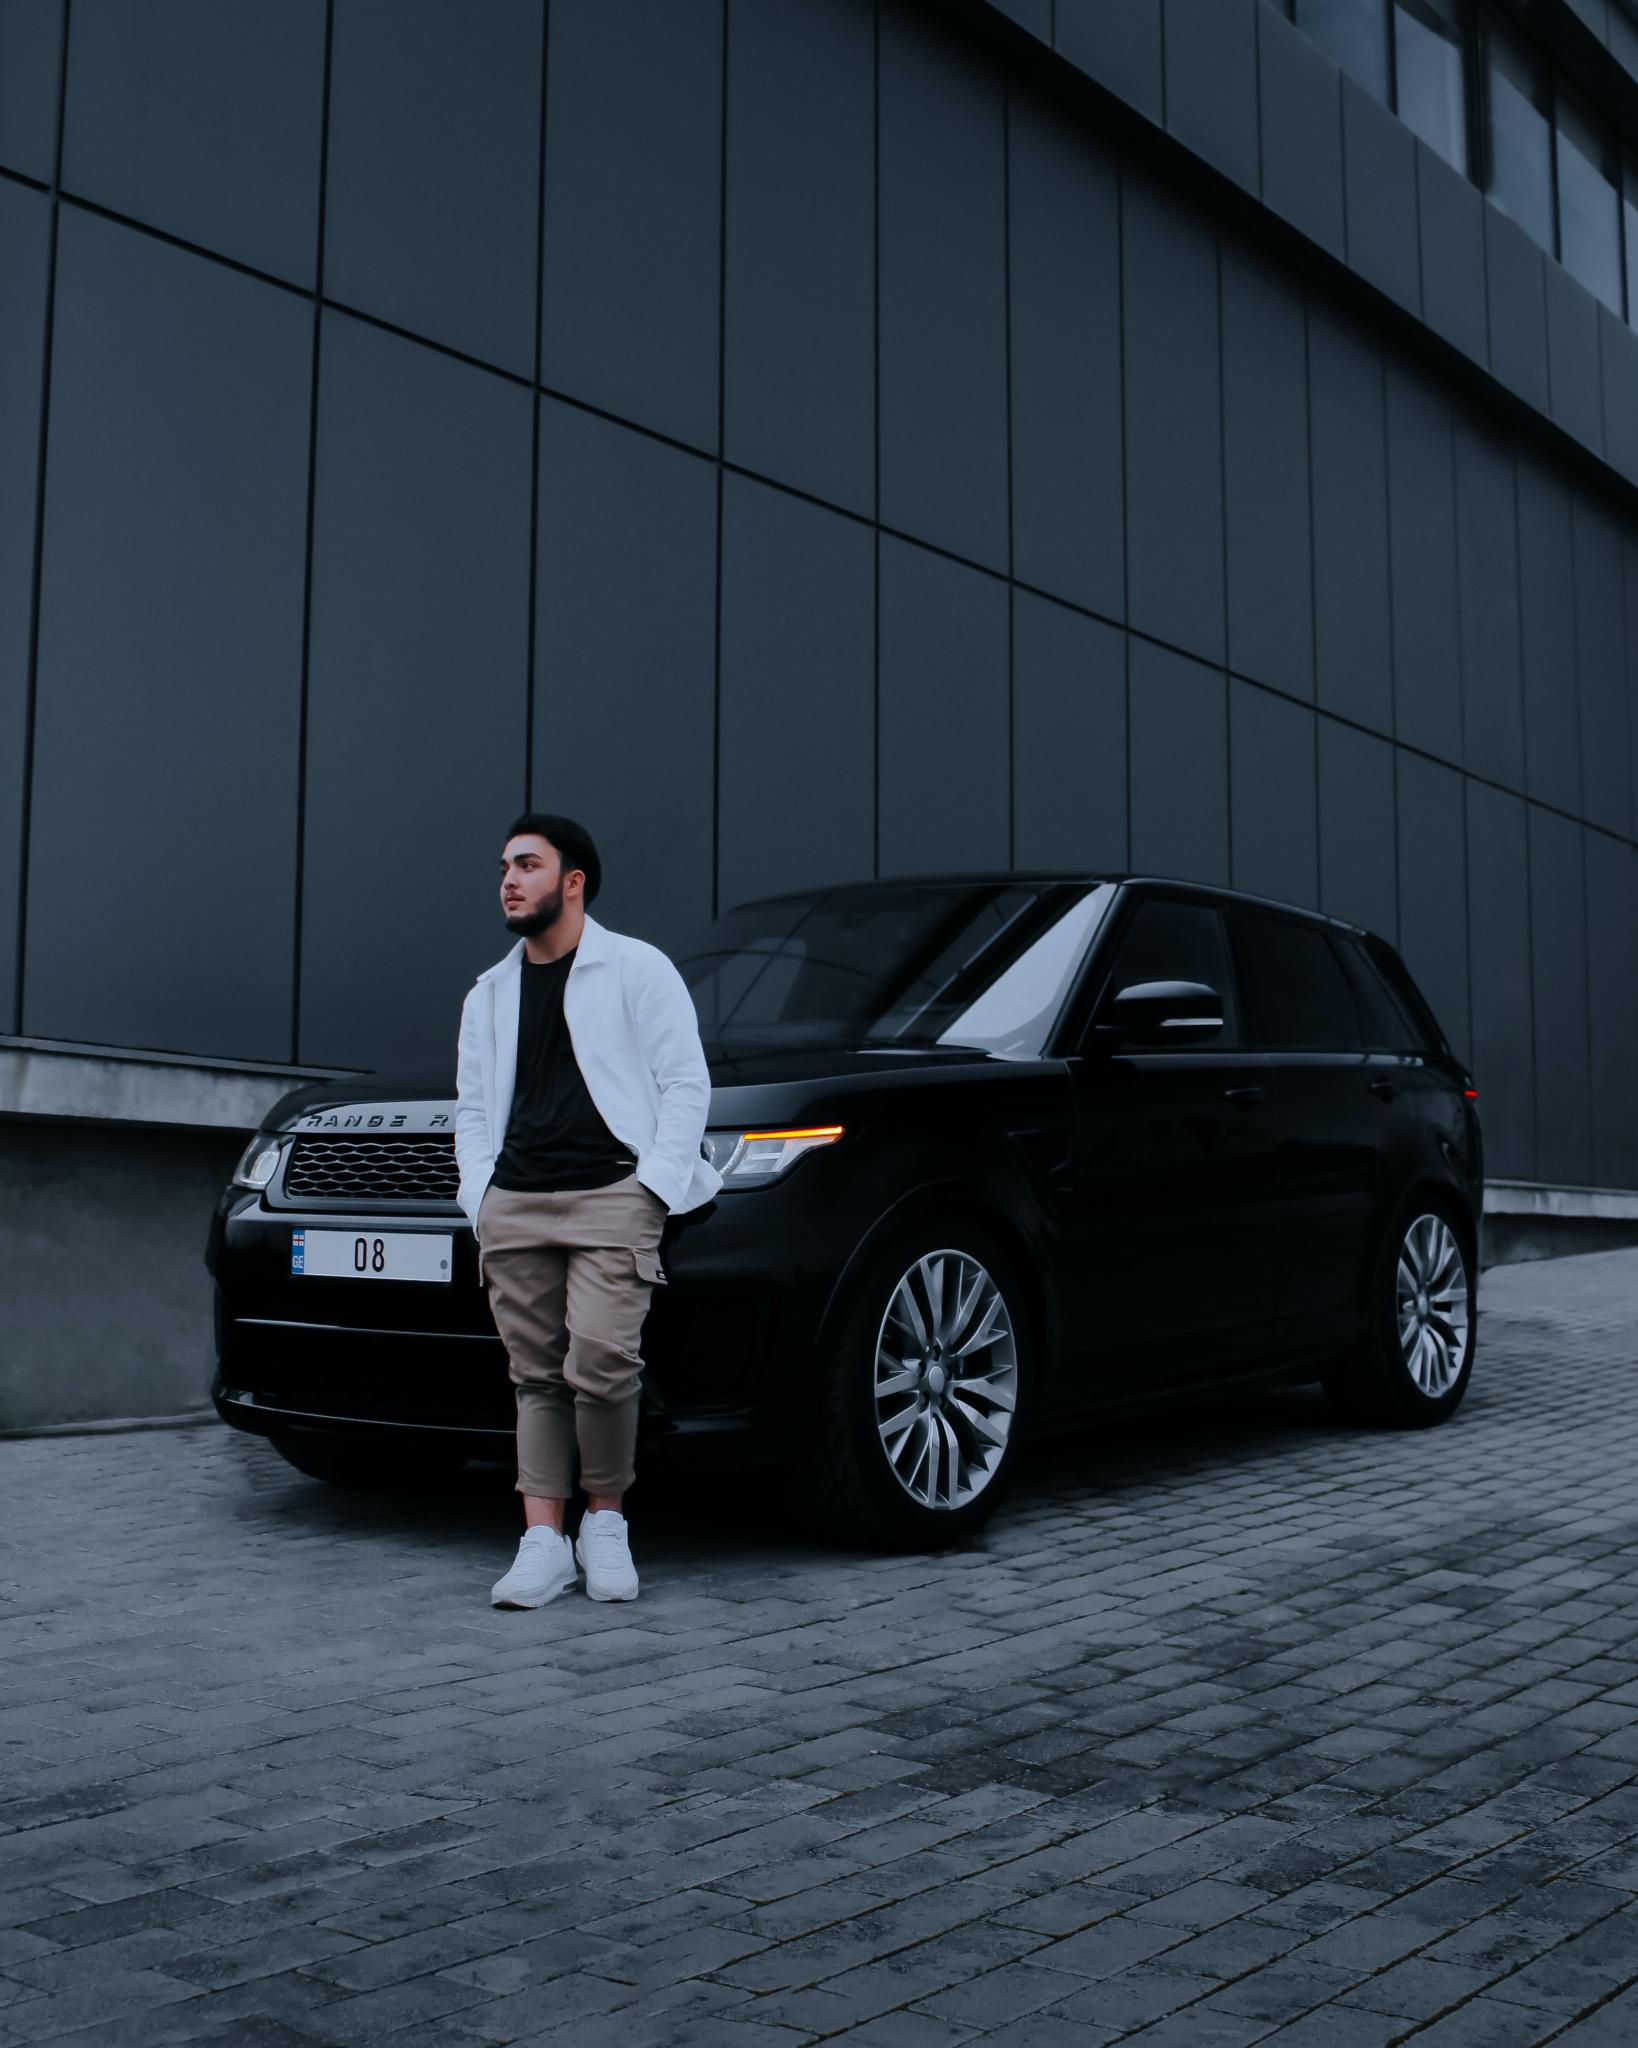range rover: (294, 1100, 485, 1137)
